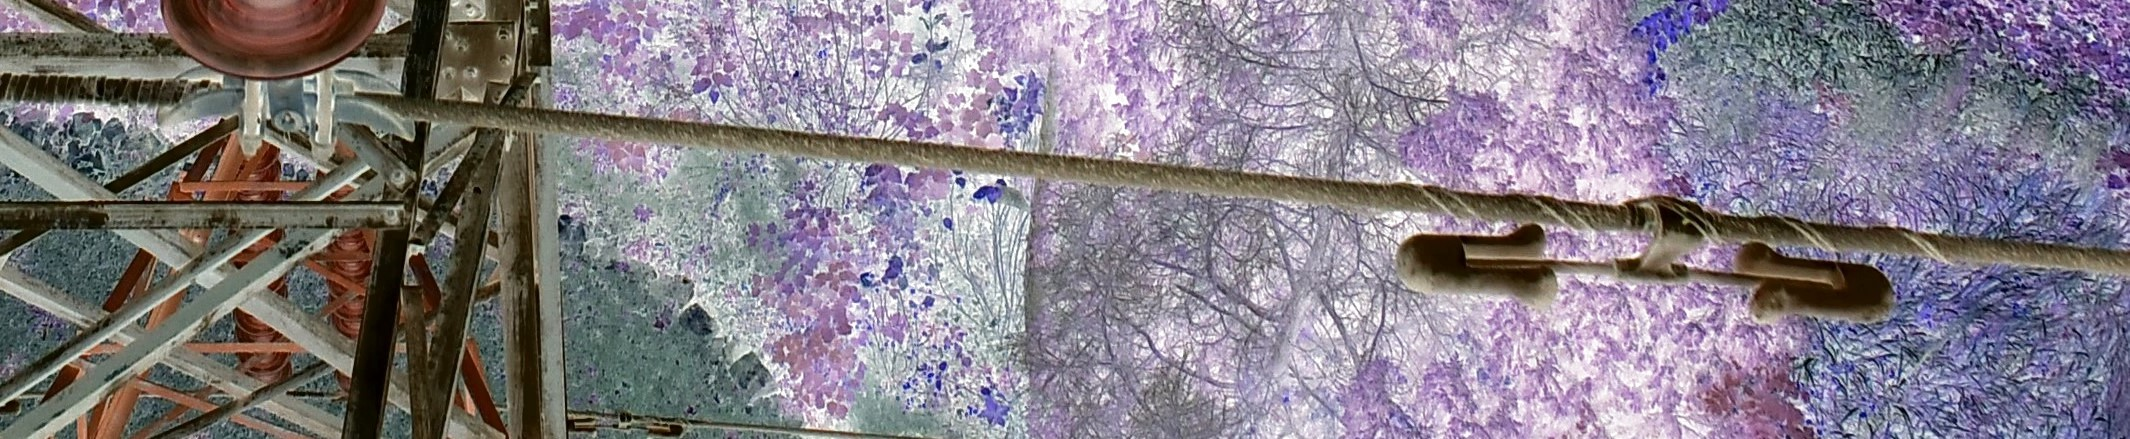Shockproof hammer: (1379, 160, 1907, 332)
